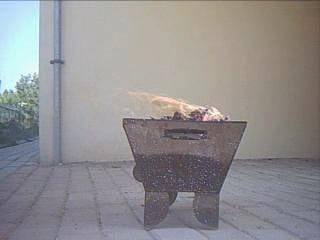fire: (136, 88, 230, 123)
